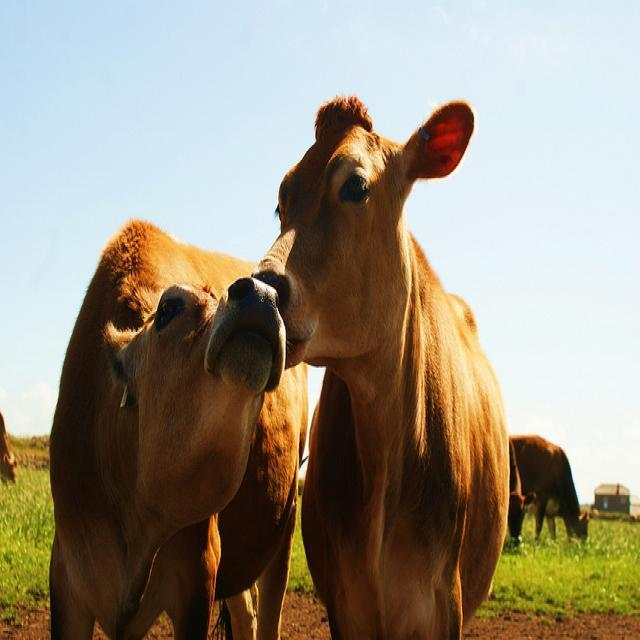cow: (253, 96, 512, 639), (48, 216, 309, 639), (510, 434, 590, 543)
